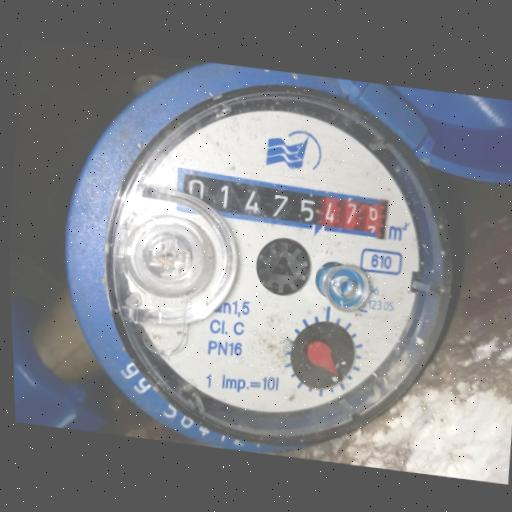0: (181, 173, 219, 209)
1: (213, 179, 244, 215)
4: (240, 183, 270, 218), (316, 195, 346, 229)
5: (290, 191, 321, 224)
6: (363, 202, 389, 235)
7: (265, 187, 295, 222), (341, 198, 367, 231)
border_water_meter_number: (172, 168, 391, 243)
